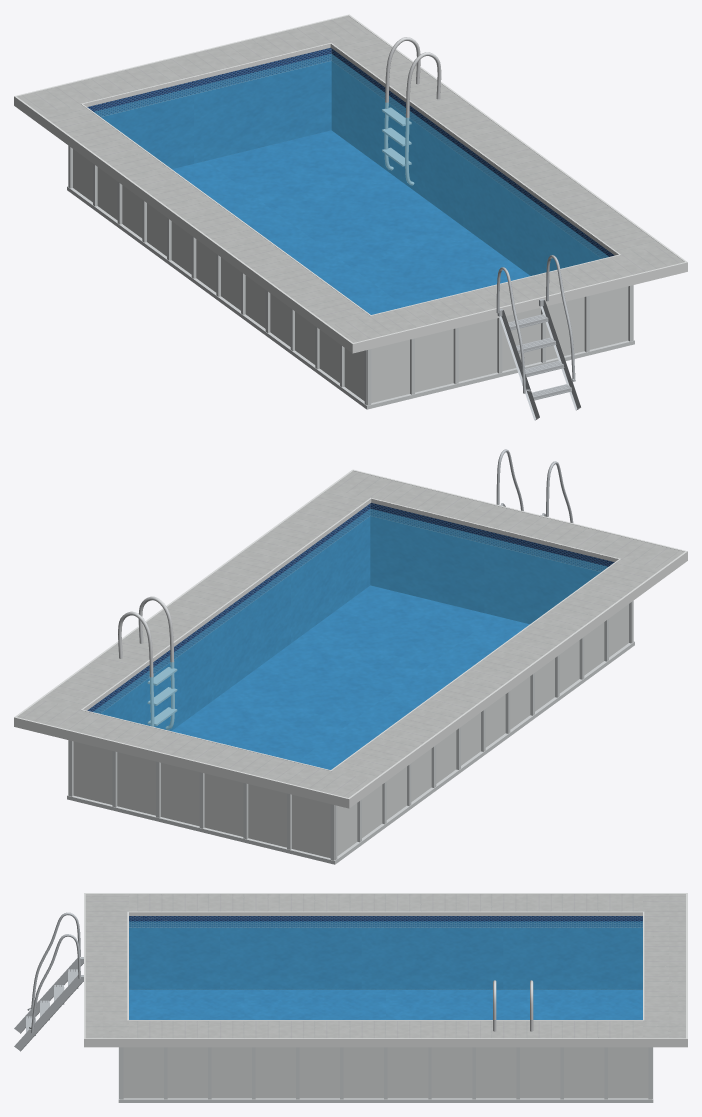
Rendered from kayak-pool-12x24-white-walk-ag-nofence.430f4cf500.glb.
3 views of the same model, one above another, from view 1: azimuth 30°, elevation 25°; view 2: azimuth 150°, elevation 25°; view 3: azimuth 270°, elevation 25° (orthographic). The views are drawn at different scales.
Visible parts, largest first — view 1: water, deck, liner_wall, liner_floor, wall, fascia, upright, ladder, steel; view 2: water, deck, liner_wall, liner_floor, wall, fascia, upright, steel, ladder; view 3: water, liner_wall, deck, wall, liner_floor, fascia, upright, ladder, steel.
Part boxes in pixels (box(x1,y1,x2,y2)): water: box(94, 53, 608, 314); deck: box(17, 16, 684, 342); liner_wall: box(87, 47, 614, 275); liner_floor: box(172, 130, 529, 314); wall: box(73, 149, 628, 402); fascia: box(14, 14, 687, 353); upright: box(67, 145, 634, 409); ladder: box(496, 255, 580, 420); steel: box(382, 37, 441, 185); water: box(93, 509, 607, 769); deck: box(17, 471, 684, 797); liner_wall: box(87, 502, 614, 730); liner_floor: box(172, 585, 529, 769); wall: box(73, 604, 628, 858); fascia: box(14, 469, 687, 808); upright: box(67, 601, 634, 864); steel: box(118, 596, 177, 729); ladder: box(496, 449, 573, 522); water: box(129, 921, 642, 1019); liner_wall: box(129, 916, 642, 989); deck: box(85, 894, 685, 1038); wall: box(123, 1047, 648, 1098); liner_floor: box(129, 990, 642, 1019); fascia: box(84, 893, 687, 1047); upright: box(118, 1047, 653, 1102); ladder: box(14, 912, 83, 1051); steel: box(493, 980, 533, 1031).
Size of the model in its own units: 4.88 by 1.9 by 9.52.
10 materials, 3 textured.
